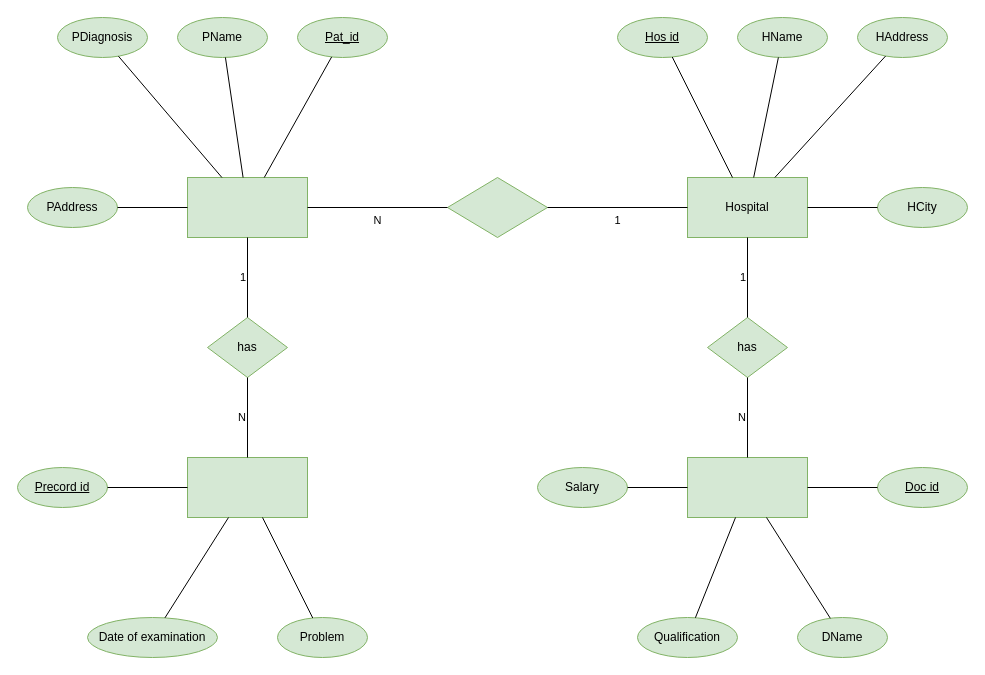
The diagram is 985 pixels wide and 675 high, and some of its shapes have lost their labels. Each missing label, with the box of its shape:
Admitted in: (446, 176, 548, 238)
Doctor: (686, 456, 808, 518)
Medical record: (186, 456, 308, 518)
Patient: (186, 176, 308, 238)
